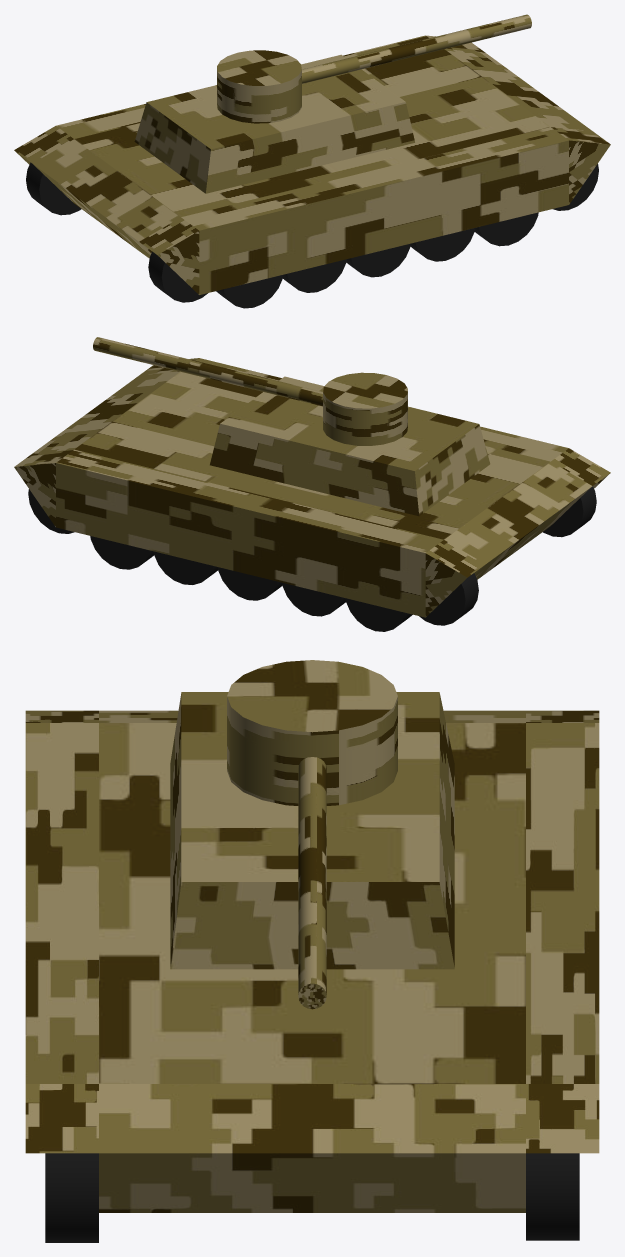
File: tank.obj
3 views of the same model, one above another, from view 1: azimuth 30°, elevation 25°; view 2: azimuth 150°, elevation 25°; view 3: azimuth 270°, elevation 25° (orthographic). The views are drawn at different scales.
Parts seen in each view (by area): view 1: tank_wheelhousebody tank_wheelhouse_right, tank_drivercab, tank_body, tank_back, tank_top, tank_tube, tank_front, tank_wheelhouse_right tank_wheelhouseback, tank_wheelhouse_right tank_wheelhousefront, tank_wheelhousebody tank_wheelhouse_left, tank_wheels_left tank_wheel11, tank_wheels_right tank_wheel (+7 smaller); view 2: tank_wheelhousebody tank_wheelhouse_left, tank_drivercab, tank_body, tank_back, tank_top, tank_tube, tank_front, tank_wheelhouse_left tank_wheelhousefront, tank_wheelhouse_left tank_wheelhouseback, tank_wheelhousebody tank_wheelhouse_right, tank_wheels_left tank_wheel11, tank_wheels_left tank_wheel10 (+7 smaller); view 3: tank_body, tank_drivercab, tank_front, tank_wheelhousebody tank_wheelhouse_right, tank_wheelhousebody tank_wheelhouse_left, tank_top, tank_tube, tank_wheelhouse_right tank_wheelhousefront, tank_wheelhouse_left tank_wheelhouseback, tank_wheels_right tank_wheel5, tank_wheels_left tank_wheel12, tank_back (+2 smaller).
Boxes of the visible parts, <box> form: tank_wheelhousebody tank_wheelhouse_right: <box>181,127,568,294</box>; tank_drivercab: <box>134,54,414,193</box>; tank_body: <box>74,49,549,216</box>; tank_back: <box>32,139,180,258</box>; tank_top: <box>217,50,301,123</box>; tank_tube: <box>302,14,531,83</box>; tank_front: <box>444,49,591,130</box>; tank_wheelhouse_right tank_wheelhouseback: <box>139,217,199,294</box>; tank_wheelhouse_right tank_wheelhousefront: <box>551,127,610,204</box>; tank_wheelhousebody tank_wheelhouse_left: <box>56,35,428,138</box>; tank_wheels_left tank_wheel11: <box>26,162,81,215</box>; tank_wheels_right tank_wheel: <box>148,251,207,302</box>; tank_wheelhousebody tank_wheelhouse_left: <box>56,449,443,617</box>; tank_drivercab: <box>210,376,490,516</box>; tank_body: <box>74,371,550,539</box>; tank_back: <box>444,462,592,579</box>; tank_top: <box>323,372,407,445</box>; tank_tube: <box>93,337,322,406</box>; tank_front: <box>33,371,179,453</box>; tank_wheelhouse_left tank_wheelhousefront: <box>425,540,485,617</box>; tank_wheelhouse_left tank_wheelhouseback: <box>14,449,73,526</box>; tank_wheelhousebody tank_wheelhouse_right: <box>196,358,568,461</box>; tank_wheels_left tank_wheel11: <box>419,573,478,625</box>; tank_wheels_left tank_wheel10: <box>345,598,412,631</box>; tank_body: <box>99,723,525,1083</box>; tank_drivercab: <box>170,692,454,969</box>; tank_front: <box>99,1084,525,1212</box>; tank_wheelhousebody tank_wheelhouse_right: <box>25,723,98,1083</box>; tank_wheelhousebody tank_wheelhouse_left: <box>526,723,599,1083</box>; tank_top: <box>227,660,397,805</box>; tank_tube: <box>298,757,326,1009</box>; tank_wheelhouse_right tank_wheelhousefront: <box>25,1084,98,1153</box>; tank_wheelhouse_left tank_wheelhouseback: <box>526,1084,599,1153</box>; tank_wheels_right tank_wheel5: <box>45,1153,98,1242</box>; tank_wheels_left tank_wheel12: <box>526,1153,579,1240</box>; tank_back: <box>99,710,525,722</box>.
Bounding box in the file's own units: 3.68 × 1.34 × 2.02.
Materials: 2 (1 with a texture image).
